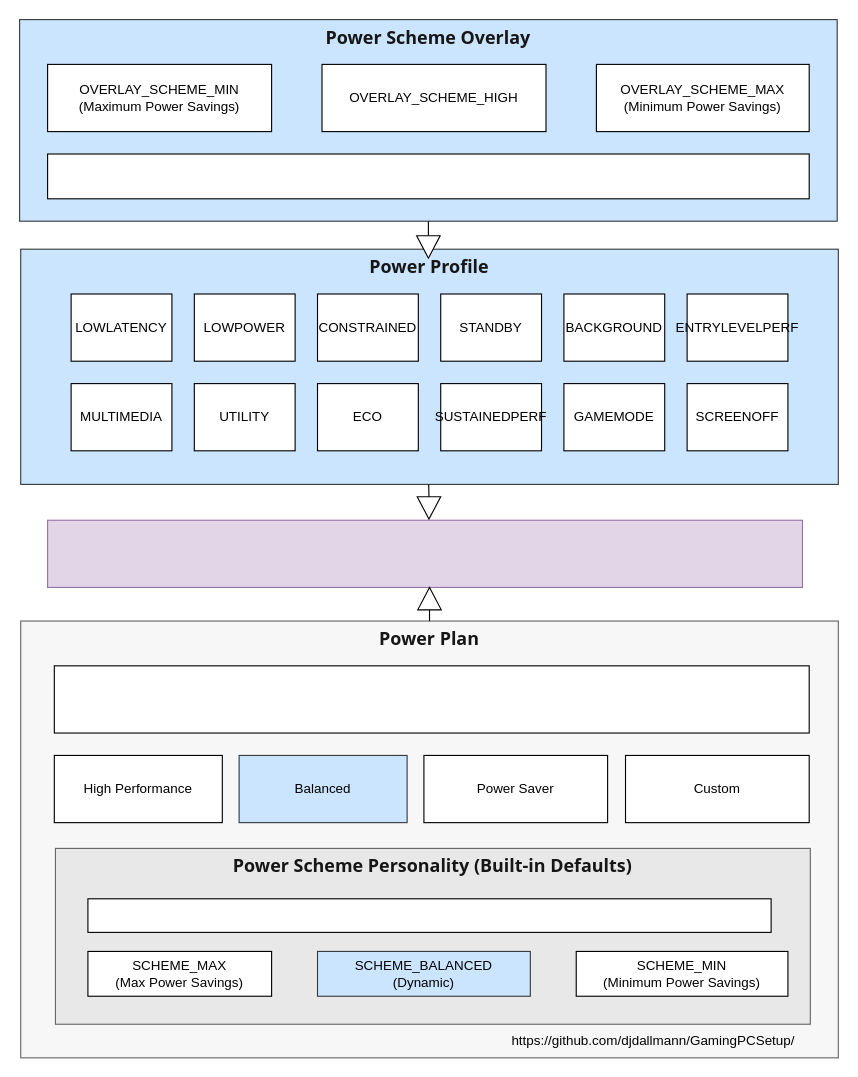
Some shapes in this 858 by 1077 pixel diagram are drawn without their labels. The shapes that lost their labels are listed below. From the top down, each one's centre as x and y in pixels, then its label:
point (427, 176): OVERLAY_SCHEME_NONE (Desktop Default)
point (424, 553): SCHEME_CURRENT (Active & Effective)
point (431, 699): User Overrides
point (429, 915): SCHEME_ALL
